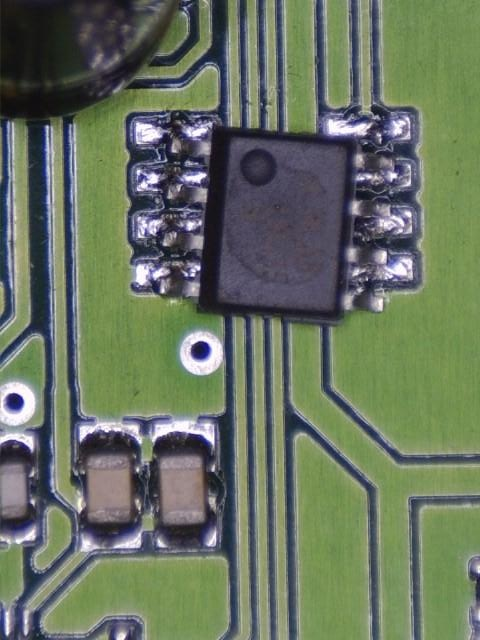pcb_defect: (131, 112, 418, 327)
